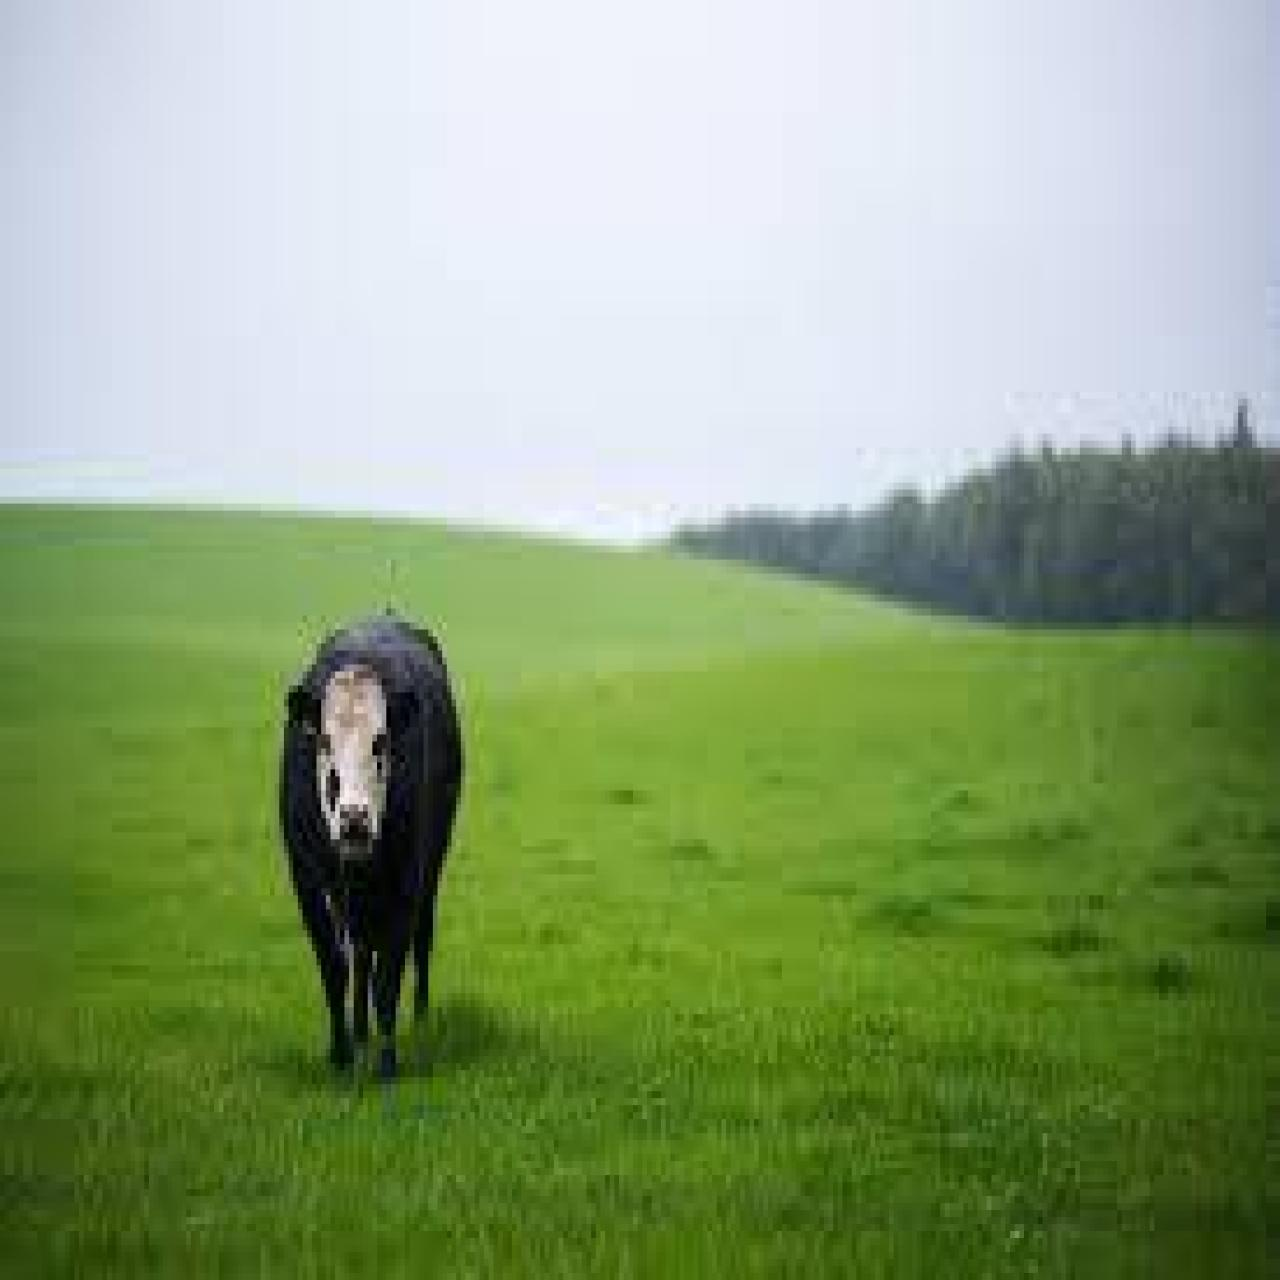cow: (279, 615, 465, 1084)
